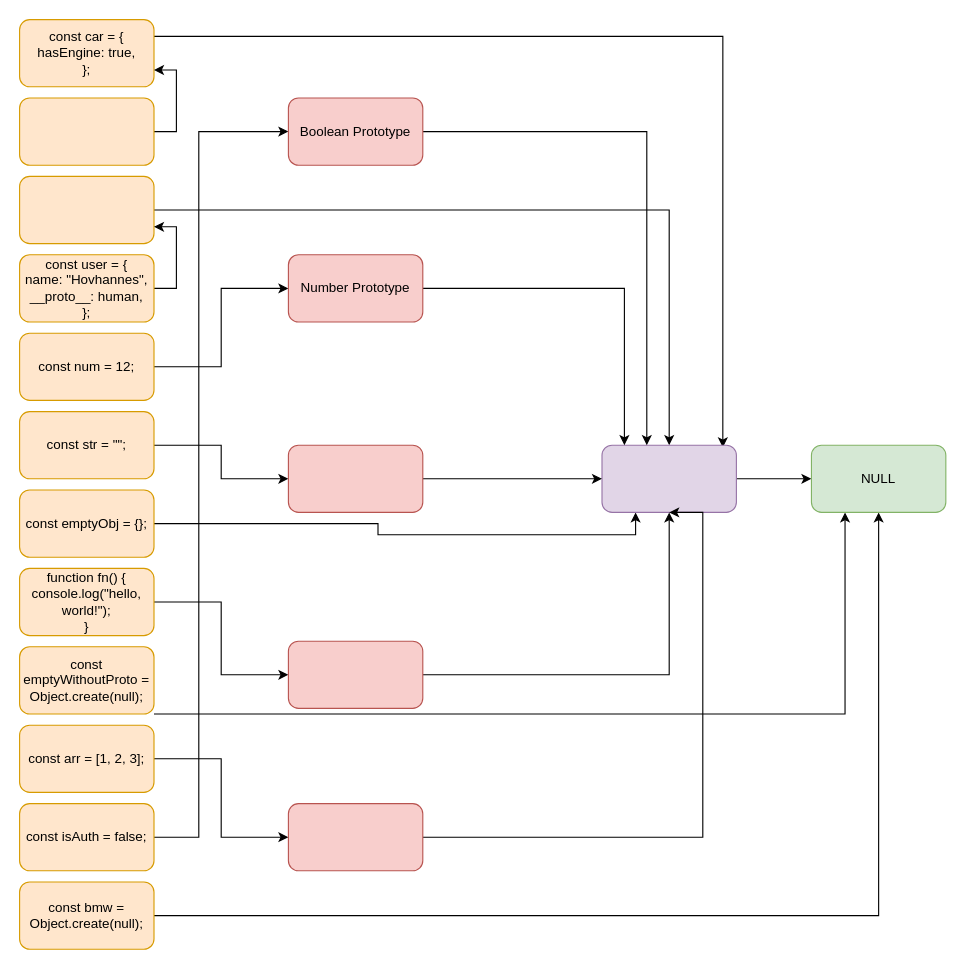
This 965x969 diagram has some shape labels left out. The shapes that lost their labels are listed below. From the top down, each one's box as (x1, y1, x2, y2) in pixels, then its label:
(18, 97, 154, 165): const mercedes = { name: "mercedes", __proto__: car, };
(18, 175, 154, 244): const human = { isHuman: true, };
(287, 444, 423, 512): String Prototype
(601, 444, 736, 512): Object Prorotype
(287, 640, 423, 708): Function Prototype
(287, 802, 423, 871): Array Prototype
